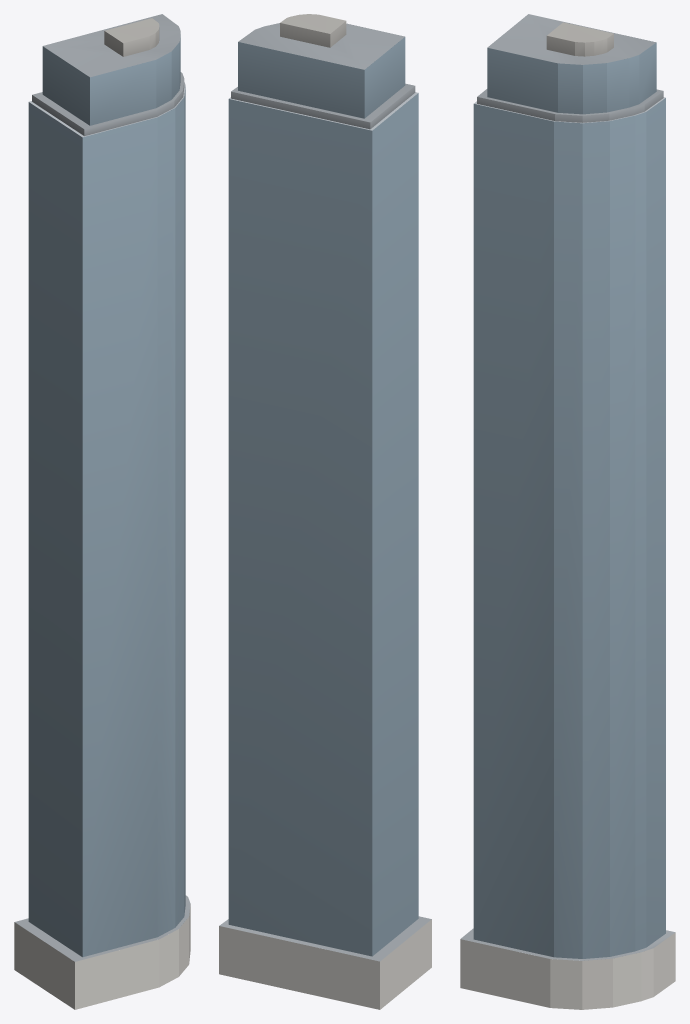
The model's file is tower_10.glb.
3 renders of one model, left to right at view 1: azimuth 30°, elevation 25°; view 2: azimuth 150°, elevation 25°; view 3: azimuth 330°, elevation 25°, orthographic.
Parts seen in each view (by area): view 1: tower_10; view 2: tower_10; view 3: tower_10.
Part boxes in pixels (left/top/right/bottom): tower_10: left=14, top=14, right=190, bottom=1009; tower_10: left=219, top=14, right=431, bottom=1009; tower_10: left=460, top=14, right=675, bottom=1009.
Bounding box in the file's own units: 47.63 × 273 × 31.52.
